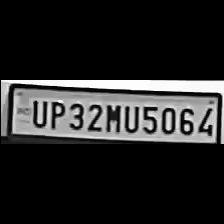0: (157, 104, 175, 134)
2: (84, 100, 103, 132)
3: (64, 99, 84, 130)
4: (195, 104, 215, 136)
5: (138, 102, 158, 134)
6: (176, 104, 194, 136)
M: (102, 101, 120, 133)
P: (46, 98, 64, 130)
U: (26, 97, 46, 127), (122, 102, 139, 134)
